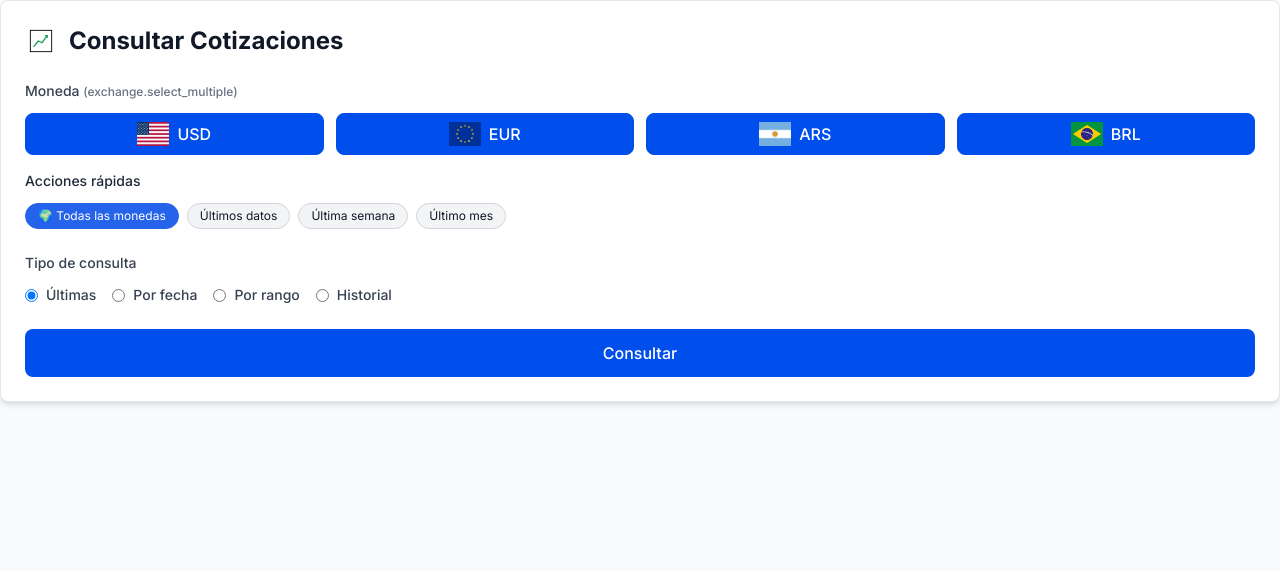
ExchangeSearchForm Component › Validation › errors on missing date
Click the text "Por fecha". click: (165,295)
box: [133,285,197,305]
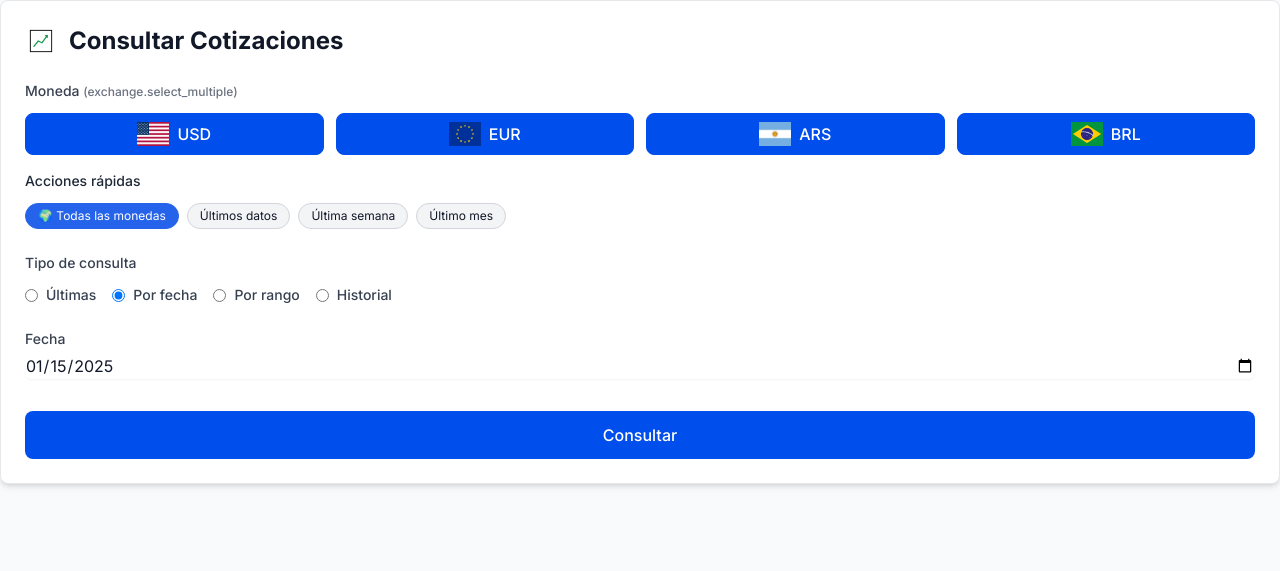
Clear the date field labelled "Fecha". click: (640,366)
box: [25,353,1255,379]
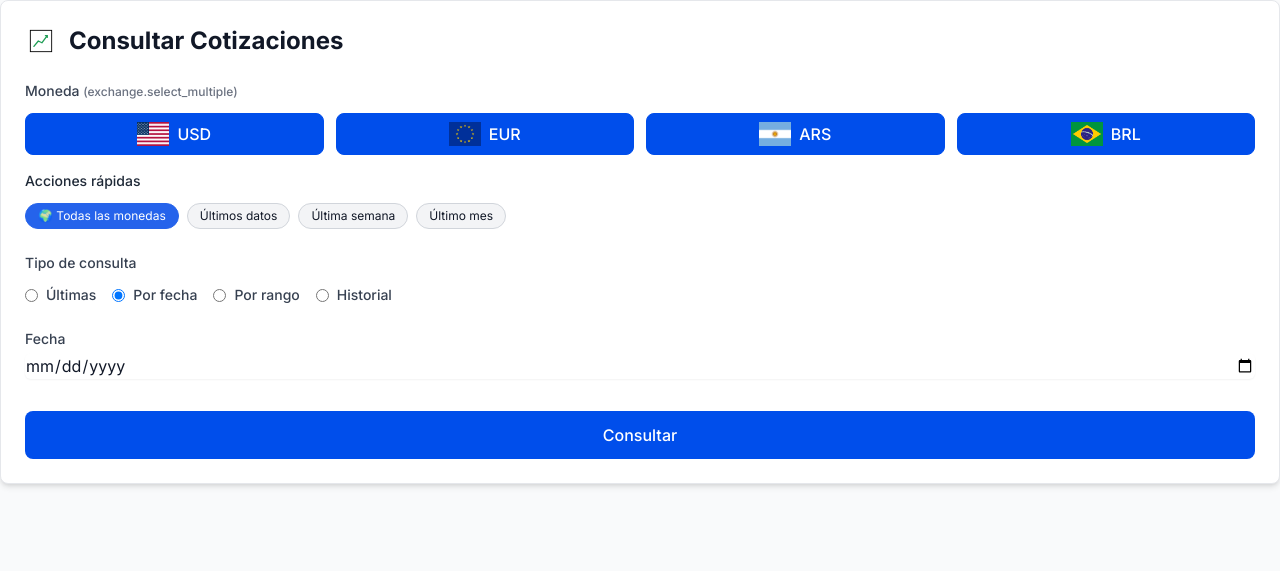
Click the button "Consultar". click: (640,435)
box: [25,411,1255,459]
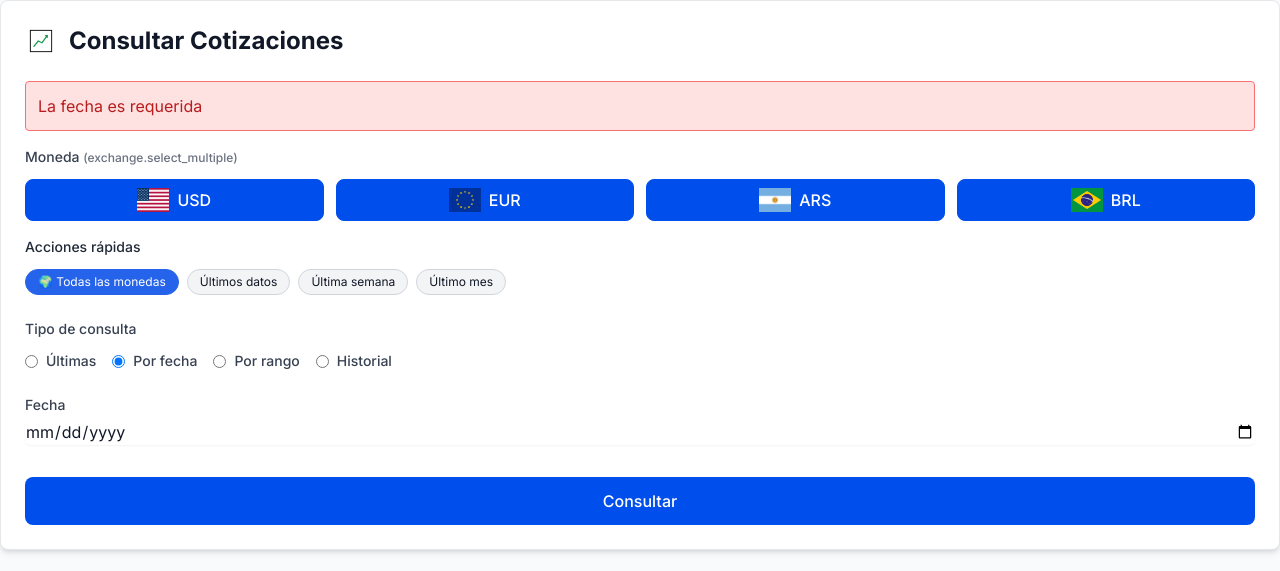
Now the text "La fecha es requerida" is shown, box [25,81,1255,131]
